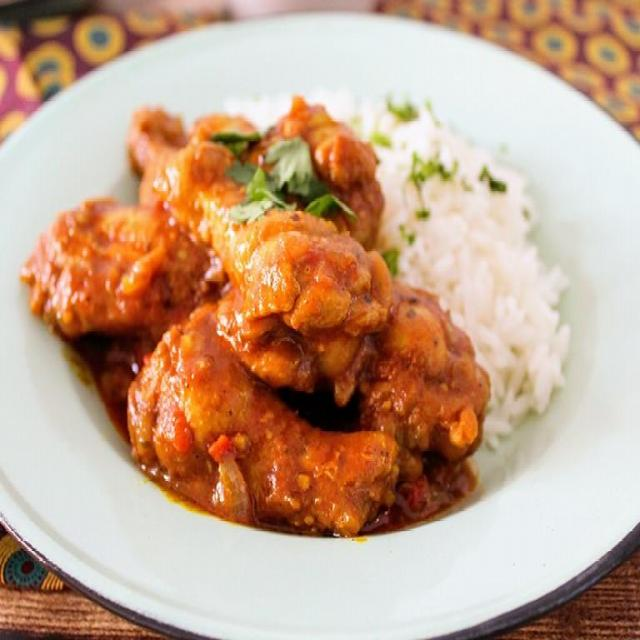chicken: (58, 132, 442, 511)
rice: (393, 127, 604, 403)
